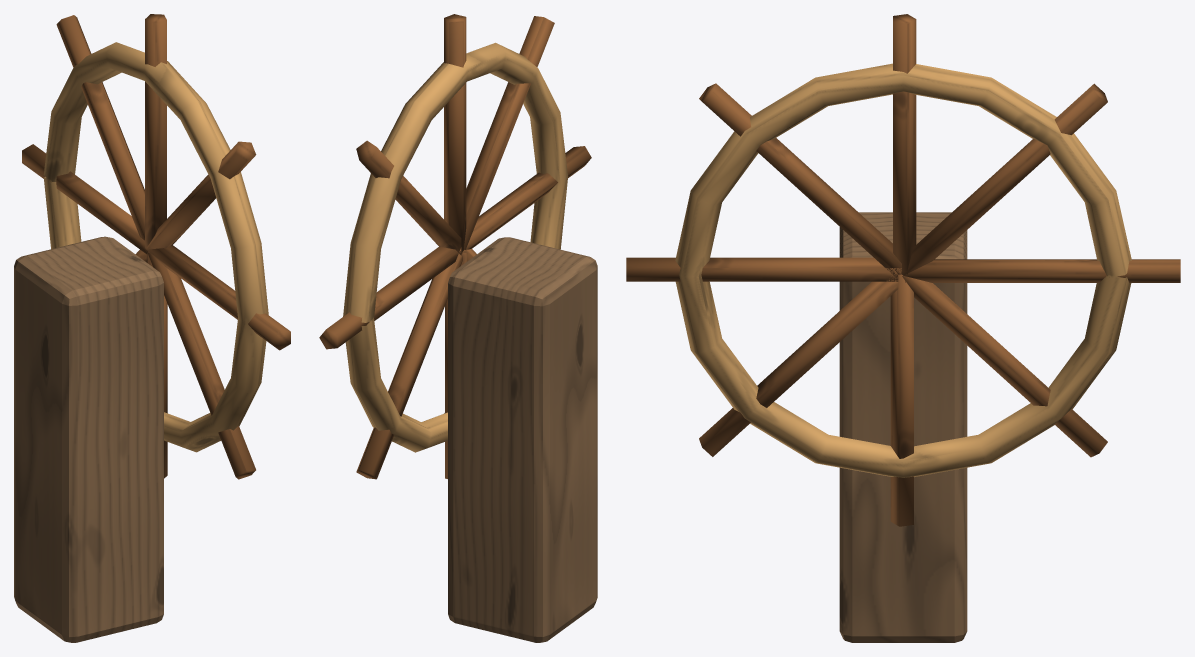
File: albatros_helm.glb
The picture shows the model from 3 angles, left to right: view 1: azimuth 30°, elevation 25°; view 2: azimuth 150°, elevation 25°; view 3: azimuth 270°, elevation 25°; orthographic projection. The views are drawn at different scales.
Parts seen in each view (by area): view 1: Helm; view 2: Helm; view 3: Helm.
Part boxes in pixels (bbox=[...]): Helm: bbox=[14, 14, 290, 642]; Helm: bbox=[319, 14, 597, 642]; Helm: bbox=[626, 14, 1180, 642].
Size of the model in its own units: 0.3846 by 1.65 by 1.3.
Materials: 1 (1 with a texture image).
